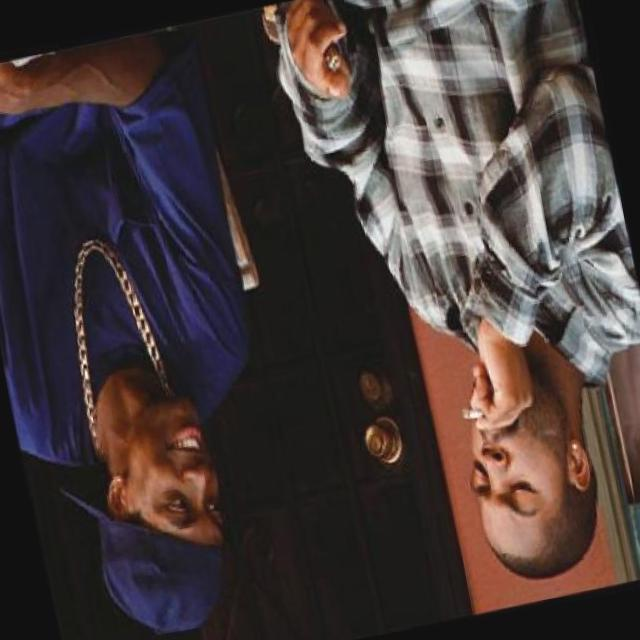smoke: (461, 400, 489, 422)
